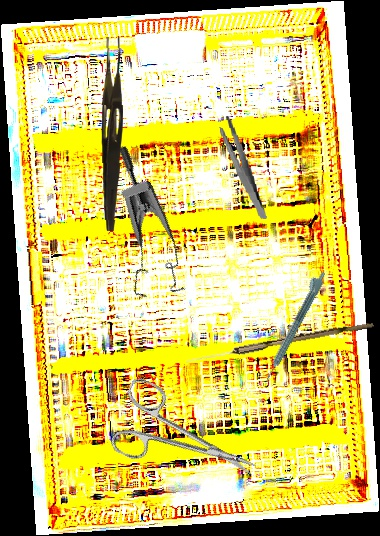Dressing Forceps: (218, 112, 267, 224), (99, 36, 125, 232)
Handpiece: (258, 268, 329, 382)
Iris Scissors: (102, 375, 270, 508)
Speculum: (63, 143, 210, 314)
Surgical Spoon: (185, 318, 374, 367)
